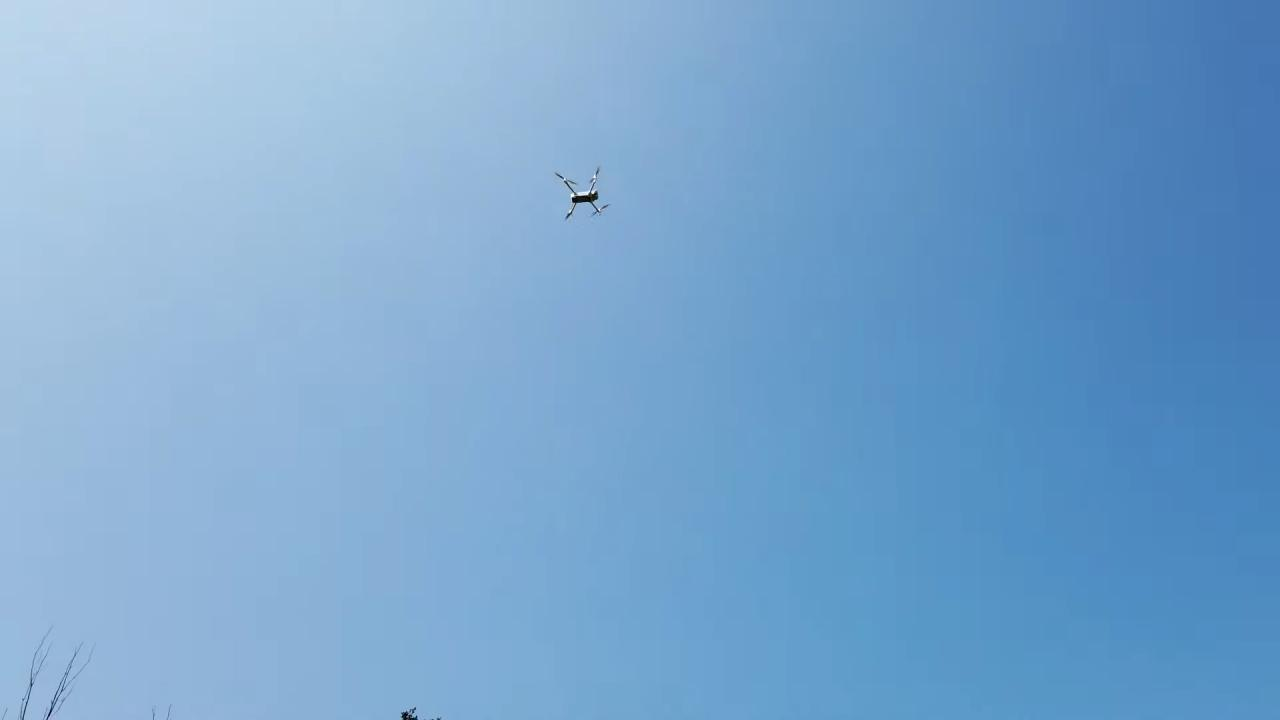Drone: (545, 158, 619, 227)
